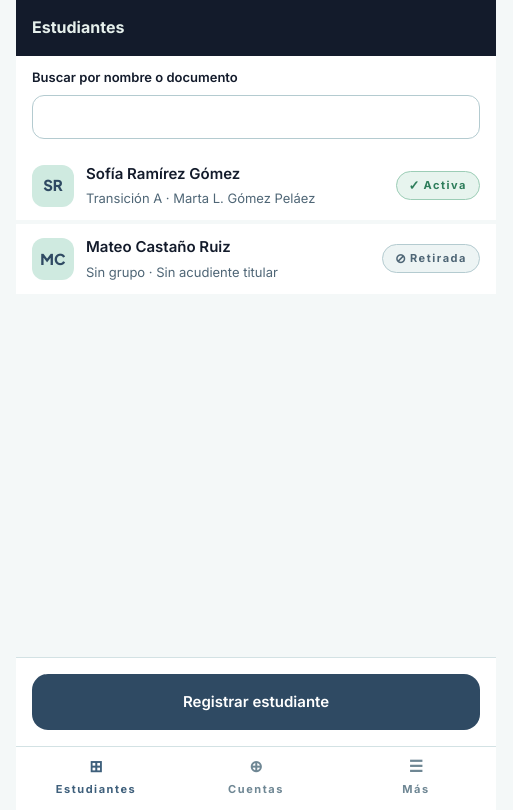
Test: listado de estudiantes (HU01-E3) › busca por nombre o documento
The image size is (513, 810).
Check: the list named "Estudiantes" is shown, box [16,151,496,294]
Type "Lopera" into the search field labelled "Buscar por nombre o documento" at (256, 117), box [33,96,479,138]
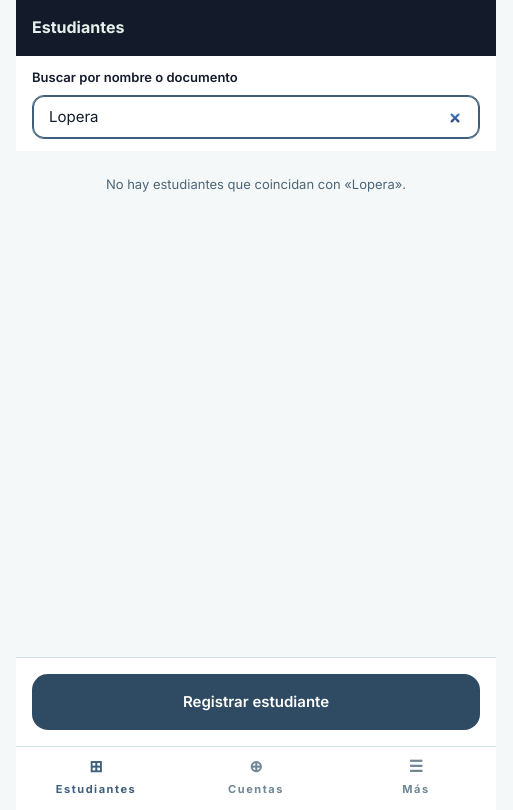
Check: the text "No hay estudiantes que coincidan con «Lopera»." is shown, box [106,176,406,192]
